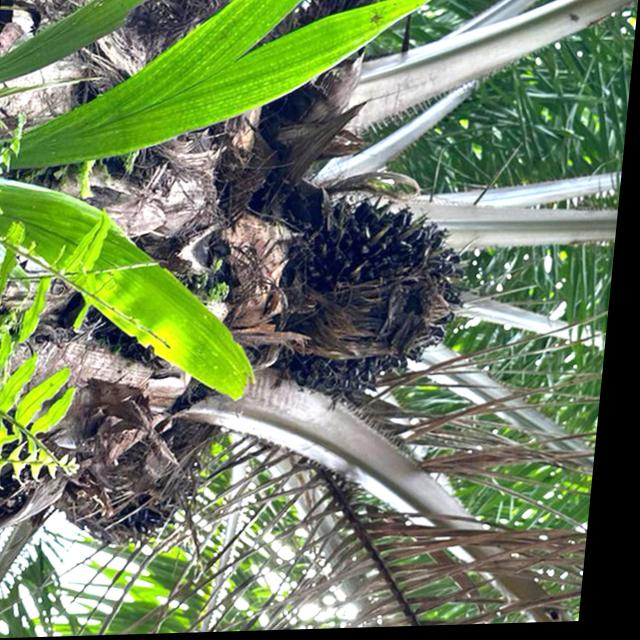unripe: (255, 182, 490, 407)
